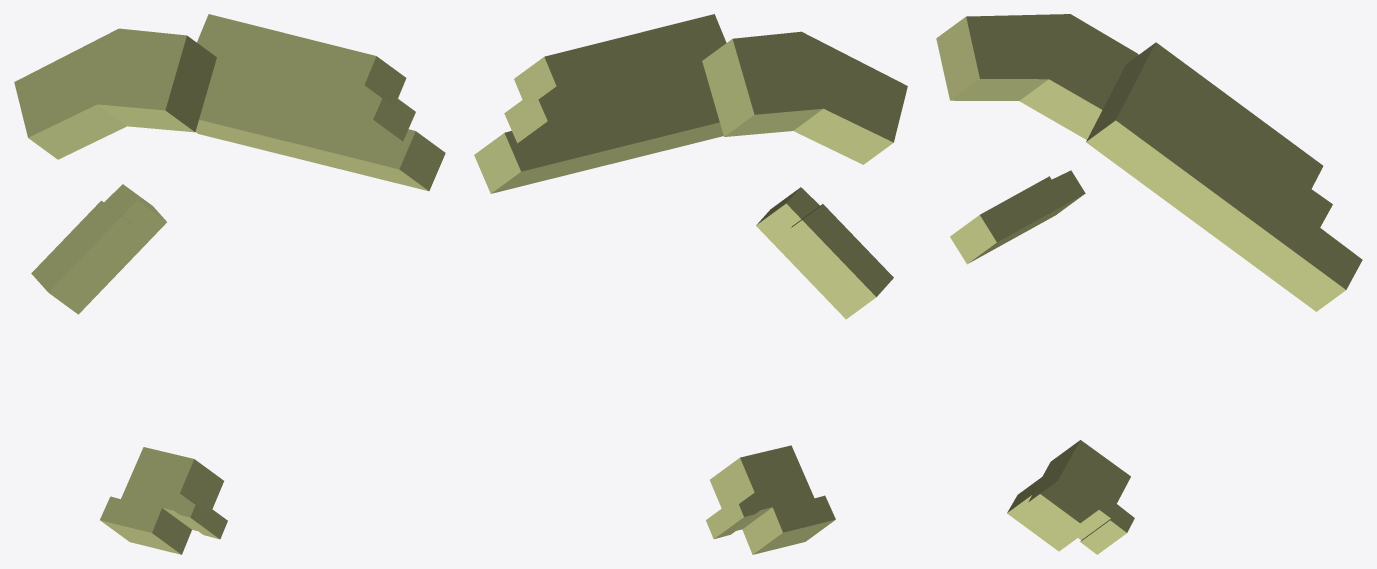
The picture shows the model from 3 angles, left to right: view 1: azimuth 30°, elevation 25°; view 2: azimuth 150°, elevation 25°; view 3: azimuth 330°, elevation 25°; orthographic projection.
Parts seen in each view (by area): view 1: 0_0_1_3_1_2_3_1; view 2: 0_0_1_3_1_2_3_1; view 3: 0_0_1_3_1_2_3_1.
Boxes of the visible parts, box(x1,y1,x2,y2) form: 0_0_1_3_1_2_3_1: box(14, 14, 445, 554); 0_0_1_3_1_2_3_1: box(474, 14, 907, 554); 0_0_1_3_1_2_3_1: box(936, 14, 1362, 554).
Bounding box in the file's own units: 69.25 × 83.7 × 11.2.
